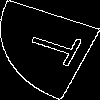T: (24, 25, 95, 71)
